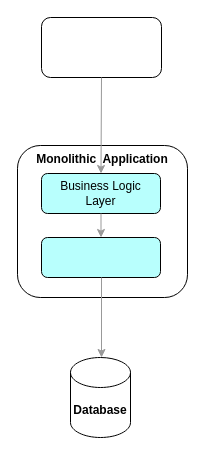
This 205x455 diagram has some shape labels left out. The shapes that lost their labels are listed below. From the top down, each one's centre as x and y in pixels, then its label:
the point at 101,47: User Interface
the point at 100,257: Database Access Layer
